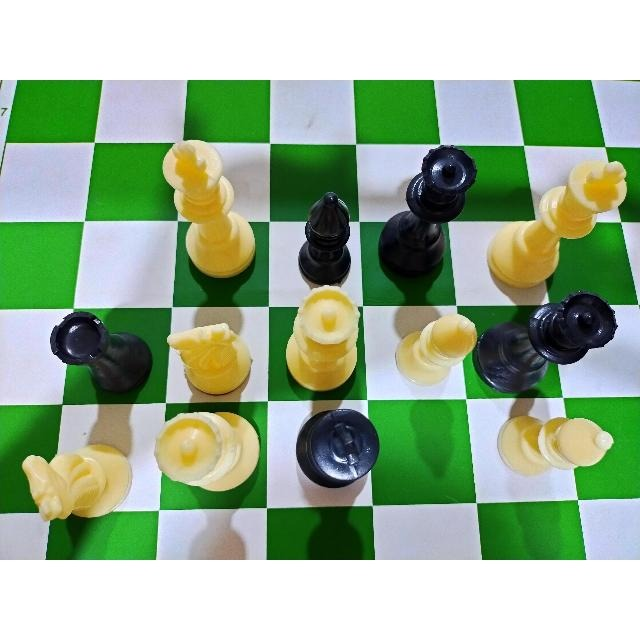black-bishop: (294, 190, 358, 284)
black-king: (292, 404, 382, 490)
black-queen: (477, 290, 618, 391), (378, 143, 477, 281)
black-rook: (46, 307, 154, 400)
white-bishop: (496, 411, 616, 481), (390, 311, 478, 385)
white-king: (494, 152, 630, 284), (159, 138, 259, 281)
white-knight: (21, 443, 140, 527), (162, 318, 255, 397)
white-queen: (146, 409, 262, 495), (280, 286, 368, 388)
